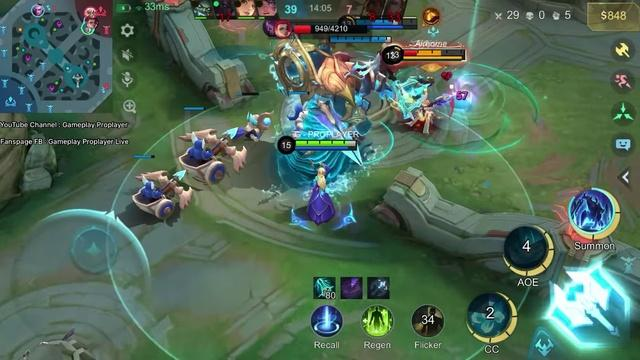Adc_Enemigo: (87, 17, 99, 30)
Energia: (403, 55, 464, 60)
Esbirro_Aliado: (178, 119, 266, 182), (132, 171, 192, 219), (222, 112, 271, 140)
Exp_Aliado: (30, 4, 45, 17)
HP_Aliado: (356, 21, 417, 26)
HP_Enemigo: (403, 50, 466, 55)
HP_Heroe_Principal: (296, 141, 357, 147)
Lesly: (406, 93, 453, 119)
Lord: (272, 38, 430, 186)
Lord_Vexana: (353, 52, 394, 112)
Mana: (296, 147, 356, 151), (366, 26, 417, 30)
Matilda: (401, 75, 436, 97)
Mid_Aliado: (80, 22, 95, 36)
Mid_Enemigo: (83, 6, 96, 18)
Minimapa: (0, 0, 113, 113)
Skill3: (567, 187, 619, 240)
Vexana: (306, 165, 334, 224)
